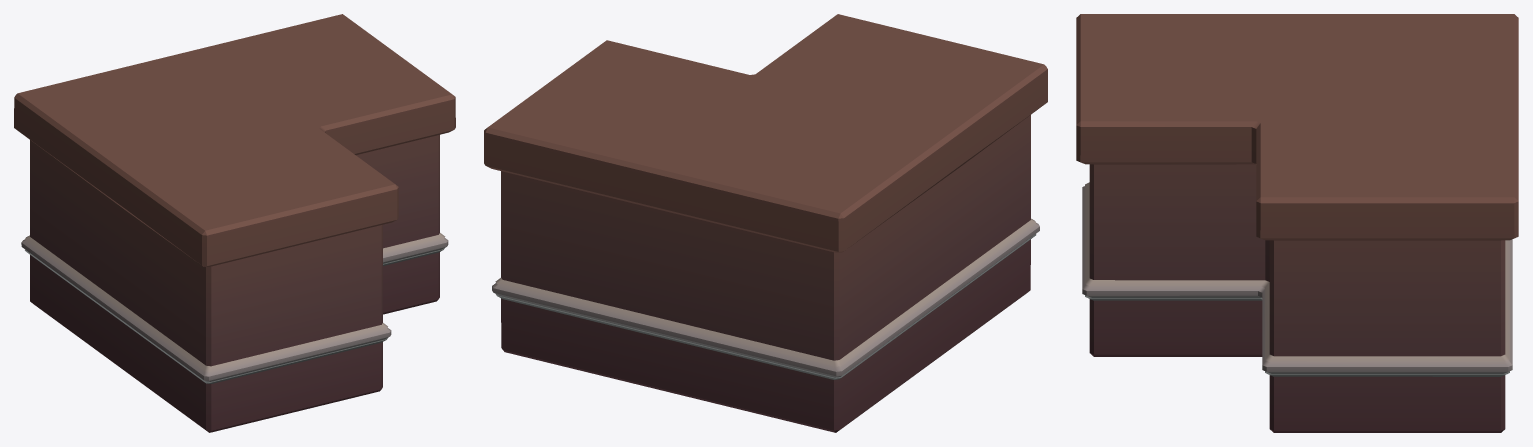
The model's file is SM_CornerPiece_Counter.fbx.
3 renders of one model, left to right at view 1: azimuth 30°, elevation 25°; view 2: azimuth 150°, elevation 25°; view 3: azimuth 270°, elevation 25°, orthographic. The views are drawn at different scales.
Visible parts, largest first — view 1: SM_CornerPiece_Counter; view 2: SM_CornerPiece_Counter; view 3: SM_CornerPiece_Counter.
Part boxes in pixels (x1,y1,x2,y2): SM_CornerPiece_Counter: [14, 14, 455, 432]; SM_CornerPiece_Counter: [484, 14, 1047, 432]; SM_CornerPiece_Counter: [1076, 14, 1518, 432].
Size of the model in its own units: 106 by 64.02 by 106.
